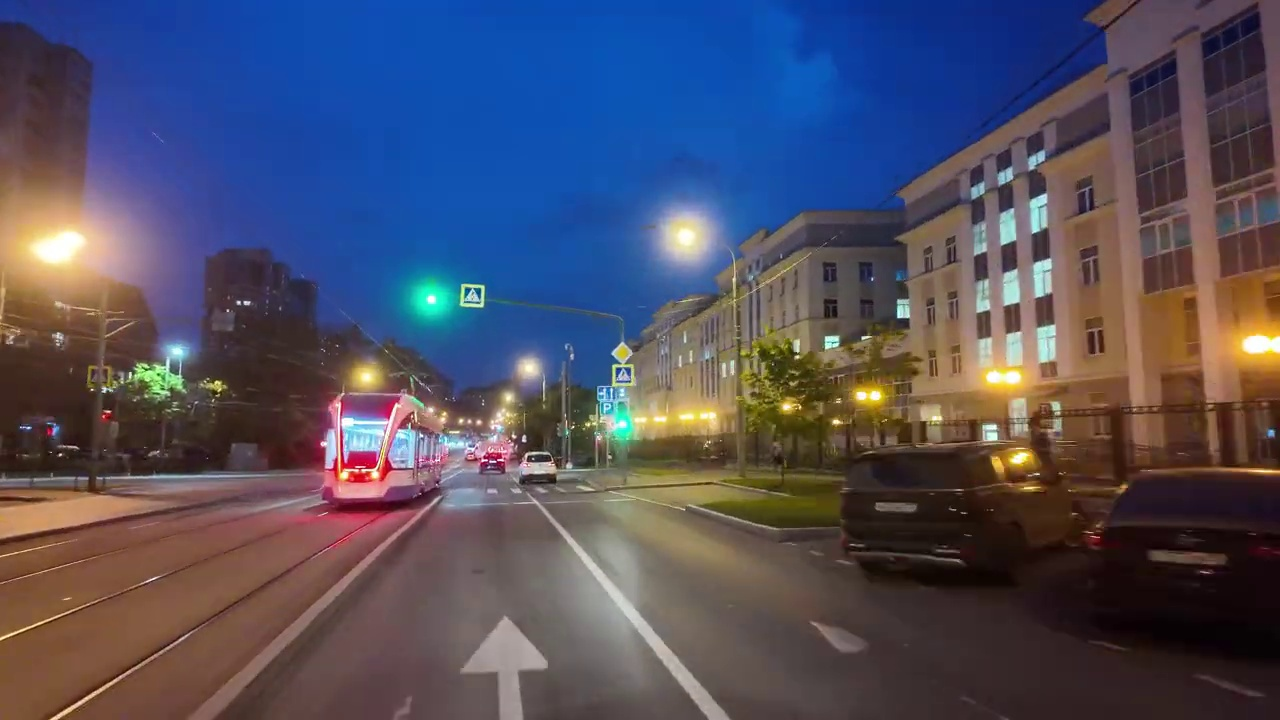acesa: (20, 223, 87, 275), (1235, 328, 1279, 367), (668, 218, 705, 256), (350, 362, 384, 392), (516, 356, 540, 379)
